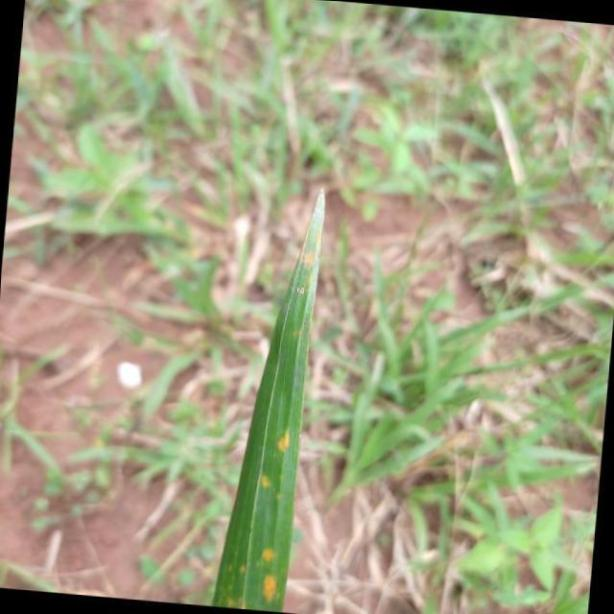Kalium: (201, 164, 329, 614)
